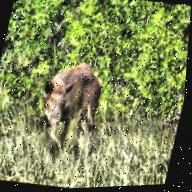boar: (28, 56, 123, 165)
